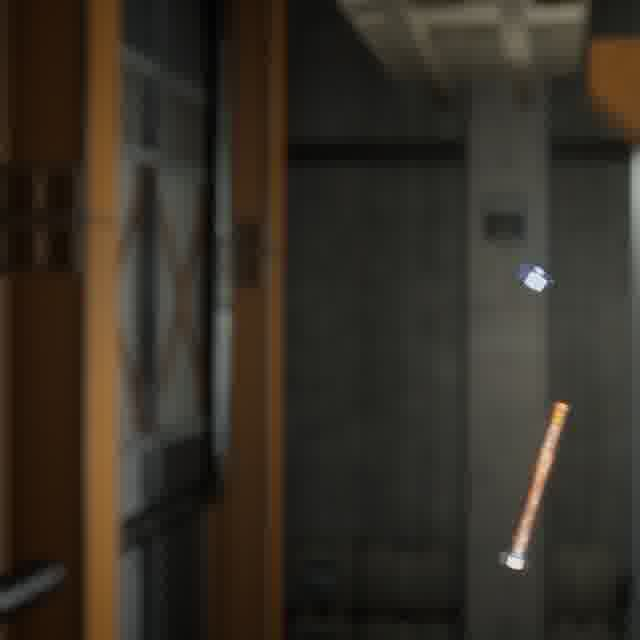bolt: (494, 396, 574, 575)
nut: (511, 257, 558, 296)
